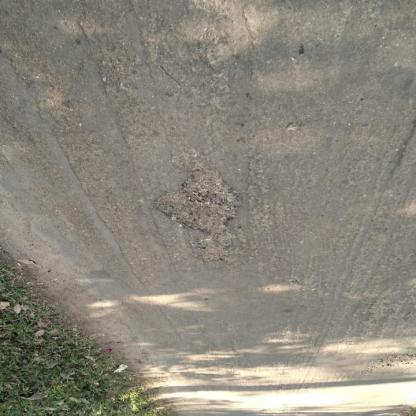pothole: (153, 166, 244, 265), (361, 351, 416, 378)
